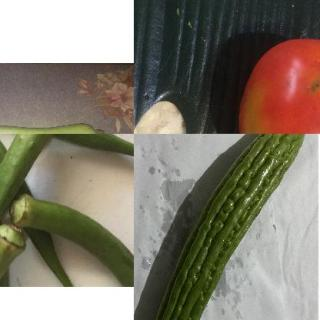Tomat: (240, 36, 319, 133)
